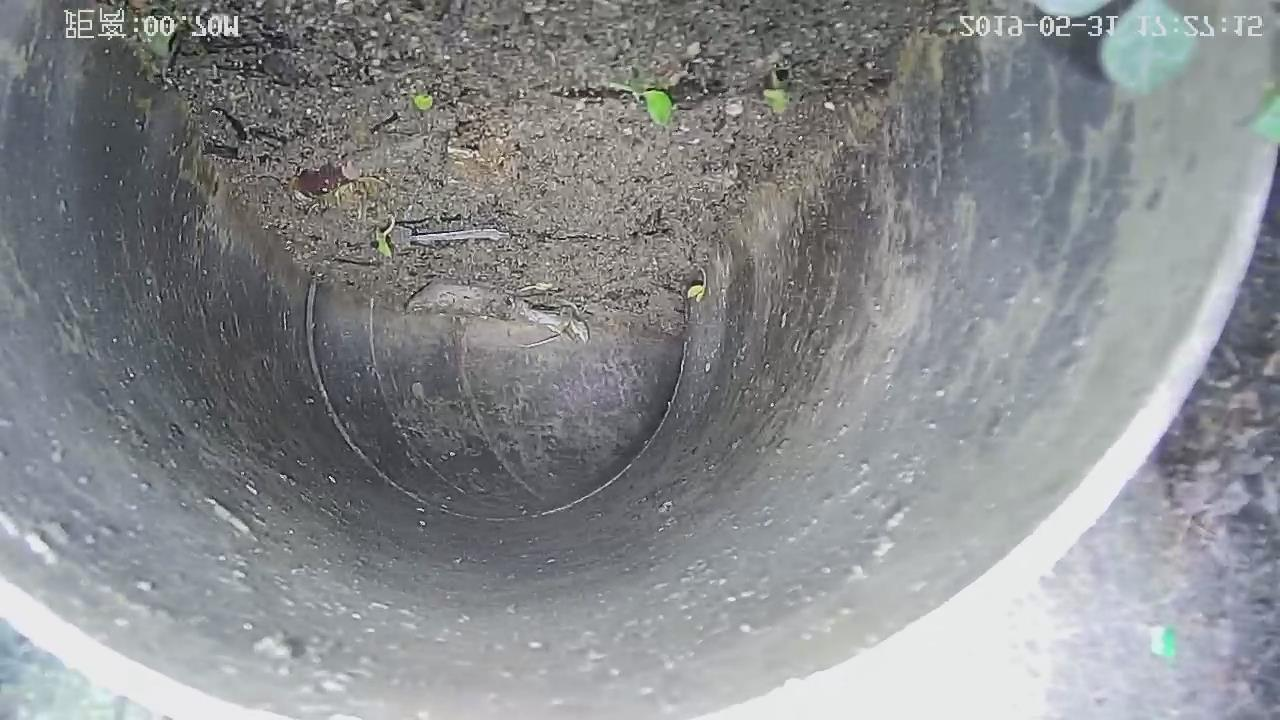CJ: (107, 1, 960, 338)
CKTJ: (297, 257, 699, 528)
